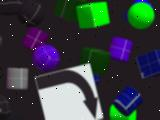Right: (34, 63, 104, 120)
